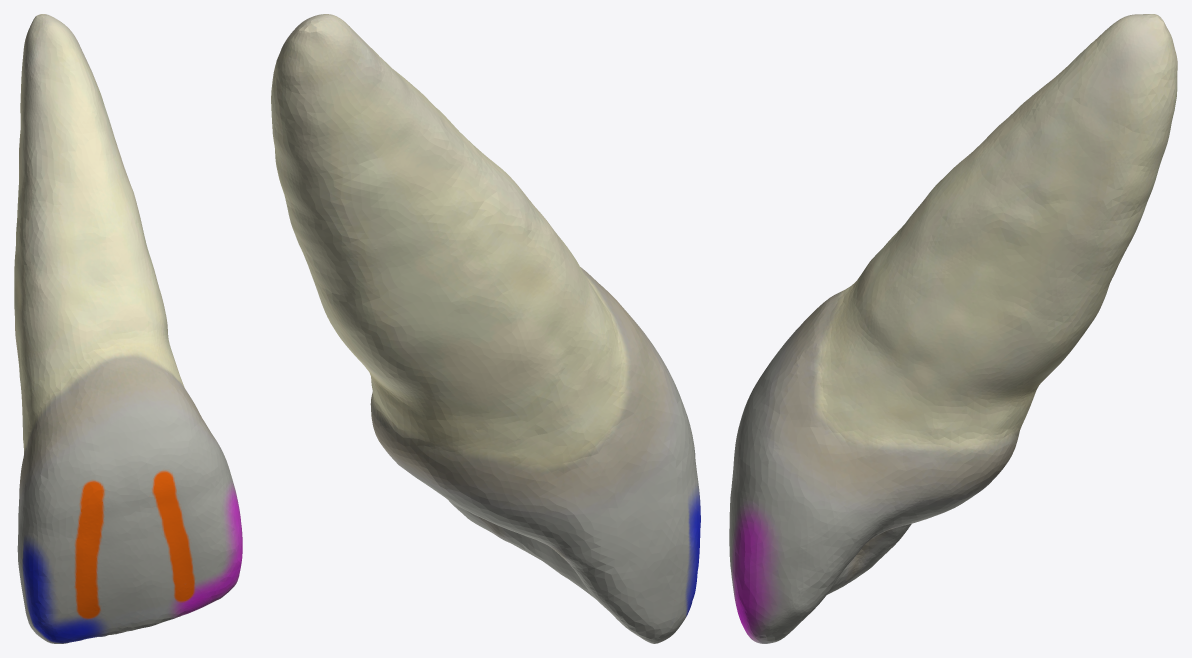
Rendered from 21 - incisivo central superior esquerdo.glb.
3 views of the same model, side by side, from view 1: azimuth 30°, elevation 25°; view 2: azimuth 150°, elevation 25°; view 3: azimuth 270°, elevation 25° (orthographic). The views are drawn at different scales.
Parts seen in each view (by area): view 1: 3MFMeshParent_0; view 2: 3MFMeshParent_0; view 3: 3MFMeshParent_0.
Part boxes in pixels (x1,y1,x2,y2): 3MFMeshParent_0: (14, 14, 242, 643); 3MFMeshParent_0: (271, 14, 700, 643); 3MFMeshParent_0: (729, 14, 1177, 643).
Size of the model in its own units: 0.2104 by 0.512 by 0.3209.
Materials: 1 (1 with a texture image).
